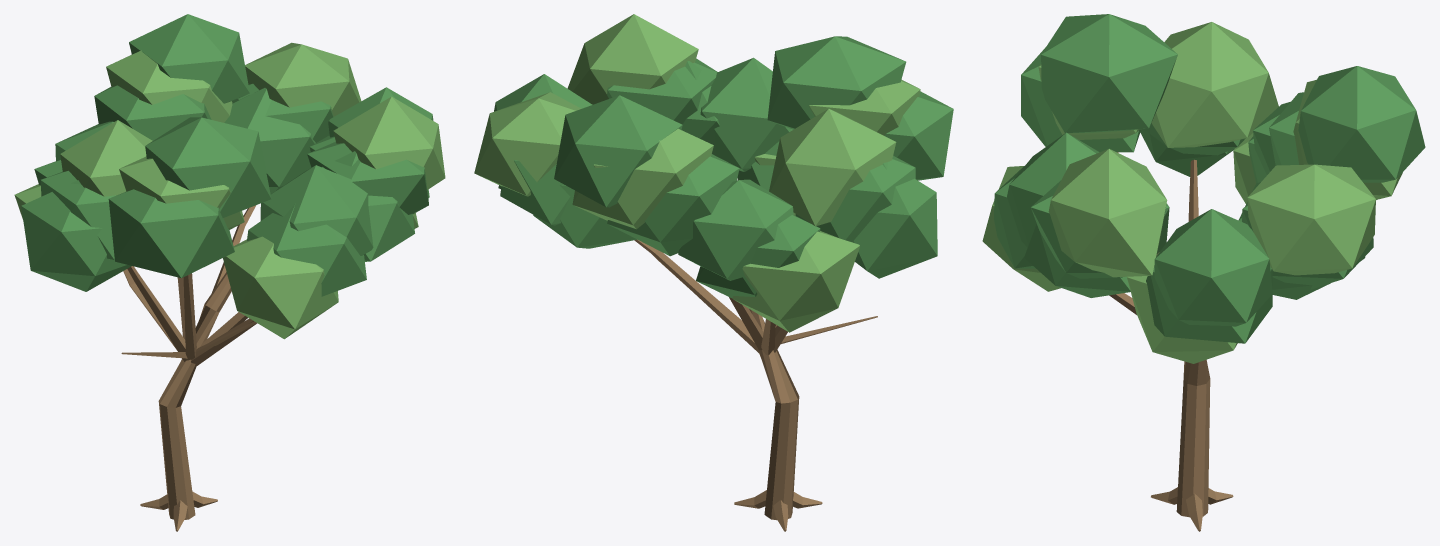
The model's file is oak_03.glb.
3 renders of one model, left to right at view 1: azimuth 30°, elevation 25°; view 2: azimuth 150°, elevation 25°; view 3: azimuth 270°, elevation 25°, orthographic. The views are drawn at different scales.
Parts seen in each view (by area): view 1: Oak_03; view 2: Oak_03; view 3: Oak_03.
Boxes of the visible parts, x1,y1,x2,y2 form: Oak_03: (14, 14, 445, 531); Oak_03: (474, 14, 953, 531); Oak_03: (982, 14, 1425, 531).
Size of the model in its own units: 13.76 by 13.8 by 11.28.
